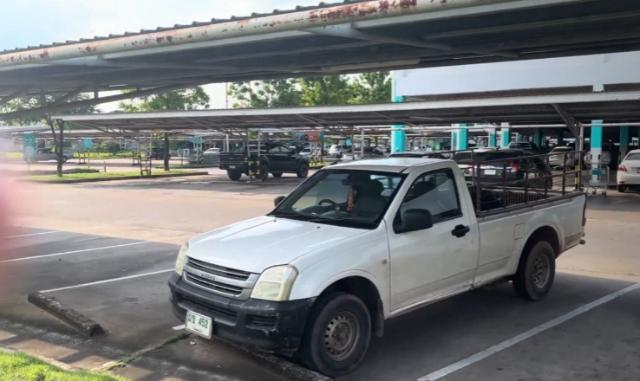pickup-truck: (170, 147, 597, 378)
